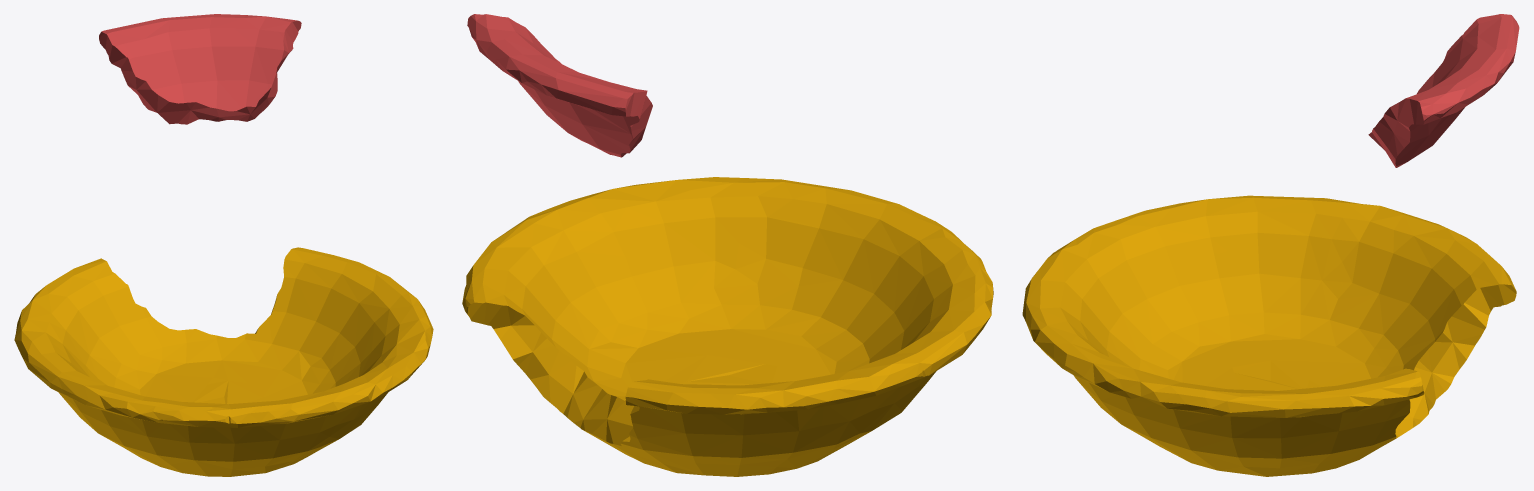
The model's file is fractured_40_2pcs_transformed.glb.
The picture shows the model from 3 angles, left to right: view 1: azimuth 30°, elevation 25°; view 2: azimuth 150°, elevation 25°; view 3: azimuth 270°, elevation 25°; orthographic projection. The views are drawn at different scales.
Visible parts, largest first — view 1: piece_0.obj, piece_1.obj; view 2: piece_0.obj, piece_1.obj; view 3: piece_0.obj, piece_1.obj.
Part boxes in pixels (x1,y1,x2,y2): piece_0.obj: [14, 247, 433, 476]; piece_1.obj: [99, 14, 301, 124]; piece_0.obj: [462, 177, 993, 476]; piece_1.obj: [467, 14, 652, 157]; piece_0.obj: [1022, 195, 1516, 476]; piece_1.obj: [1368, 14, 1519, 167].
Size of the model in its own units: 0.9996 by 0.9058 by 1.
